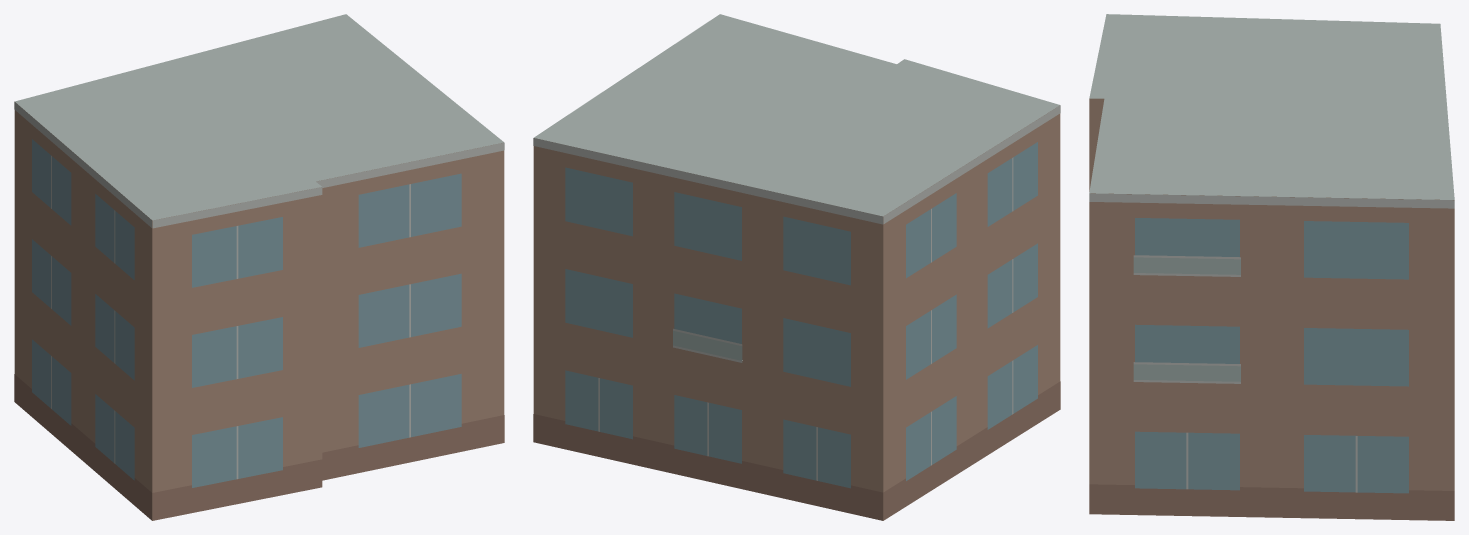
File: survey-upis-32599744.glb
The picture shows the model from 3 angles, left to right: view 1: azimuth 30°, elevation 25°; view 2: azimuth 150°, elevation 25°; view 3: azimuth 270°, elevation 25°; orthographic projection. The views are drawn at different scales.
Visible parts, largest first — view 1: survey-upis-32599744.tmp; view 2: survey-upis-32599744.tmp; view 3: survey-upis-32599744.tmp.
Part boxes in pixels (x1,y1,x2,y2): survey-upis-32599744.tmp: (14, 14, 504, 520); survey-upis-32599744.tmp: (533, 14, 1060, 520); survey-upis-32599744.tmp: (1089, 14, 1454, 520).
Bounding box in the file's own units: 11.39 × 9.15 × 9.46.
